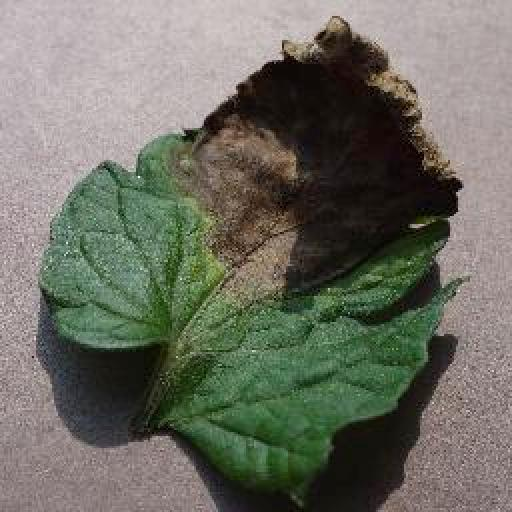disease_tomato: (40, 16, 470, 512)
